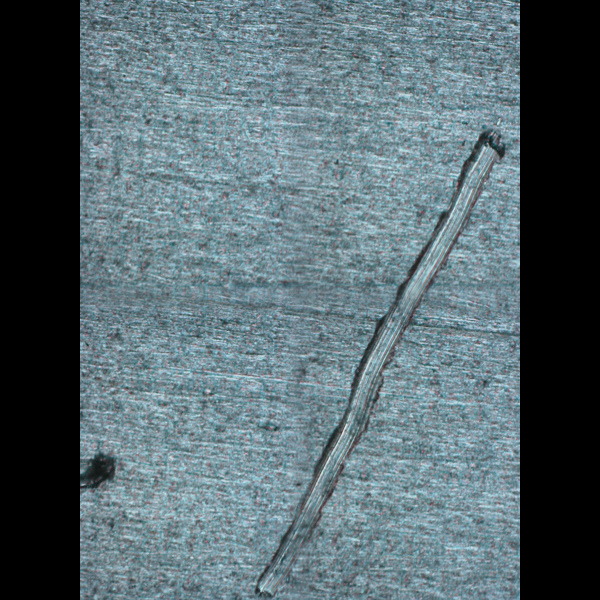d: (250, 123, 507, 599)
